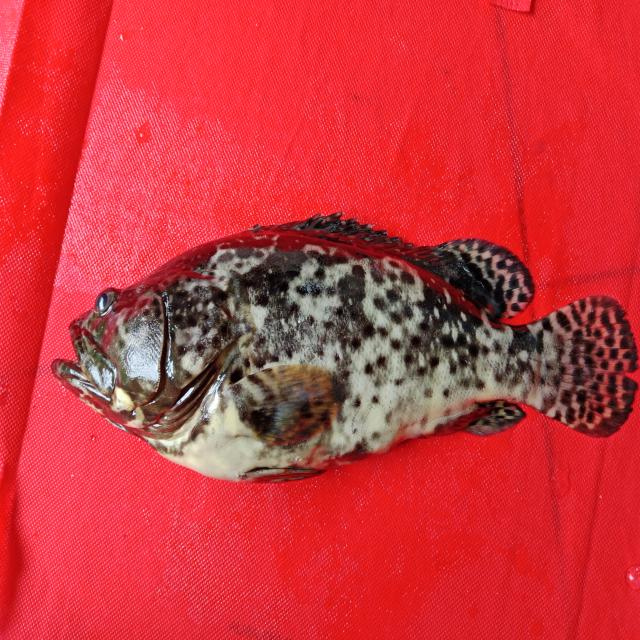ikan: (41, 202, 634, 500)
